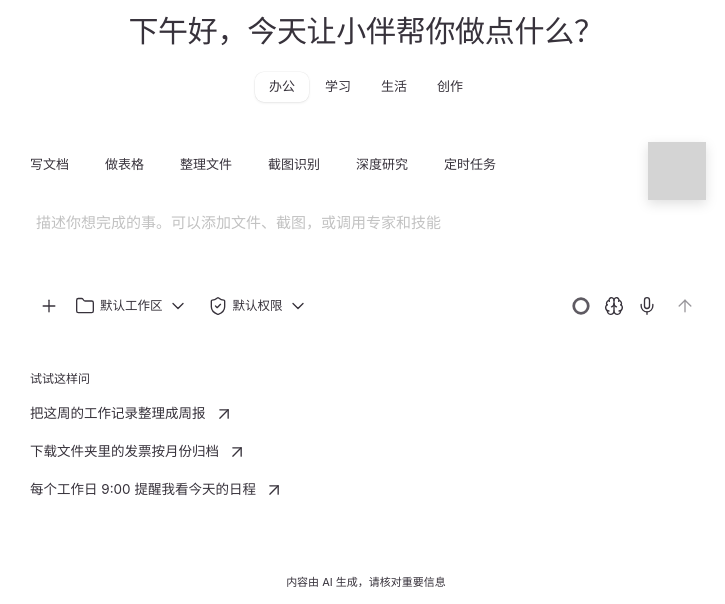
Scenario: 新建任务 › switches the quick starts with the scene and puts one in the box without sending
The width and height of the screenshot is (725, 604).
Click the tab "学习" at (338, 86), box [311,72,365,102]
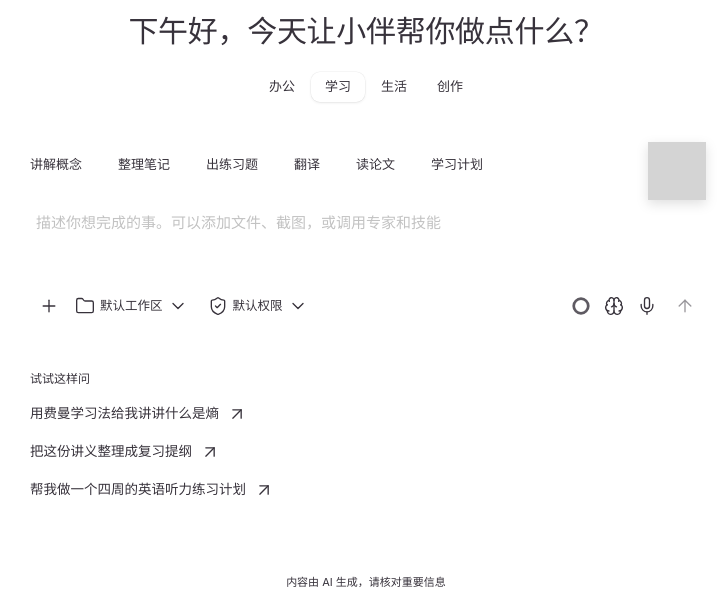
Click the button "用费曼学习法给我讲讲什么是熵" at (138, 414), box [16,396,261,432]
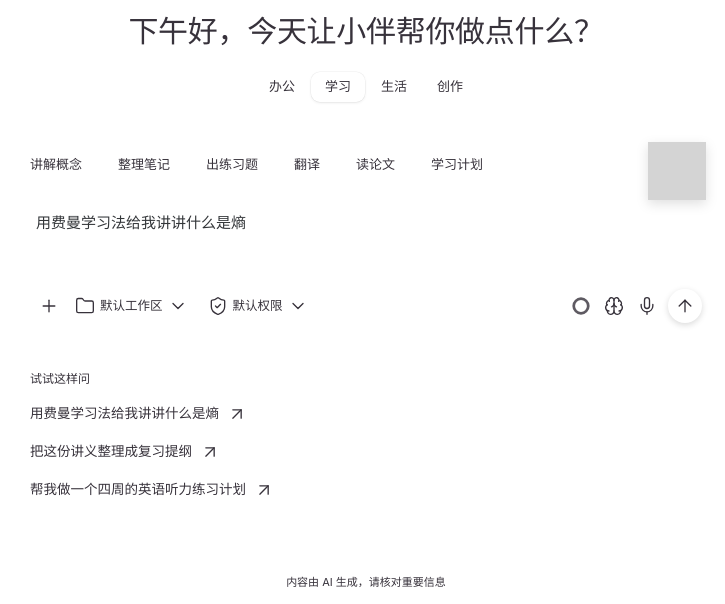
Check: the text box holds "用费曼学习法给我讲讲什么是熵", box [36,210,700,282]
